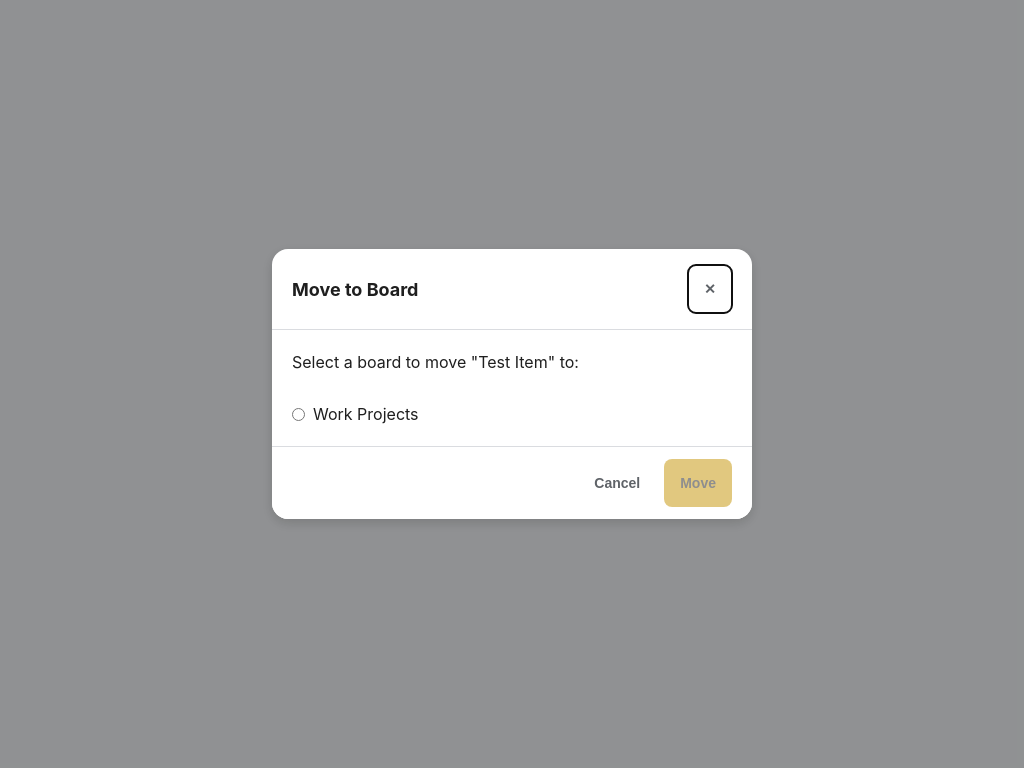
it: MoveToBoardModal › shows singular form for 1 subtask
What coordinates should you click on to do the following:
click the radio button labelled "Work Projects"
I would click on:
 (298, 414)
Its box is [292,408,305,420].
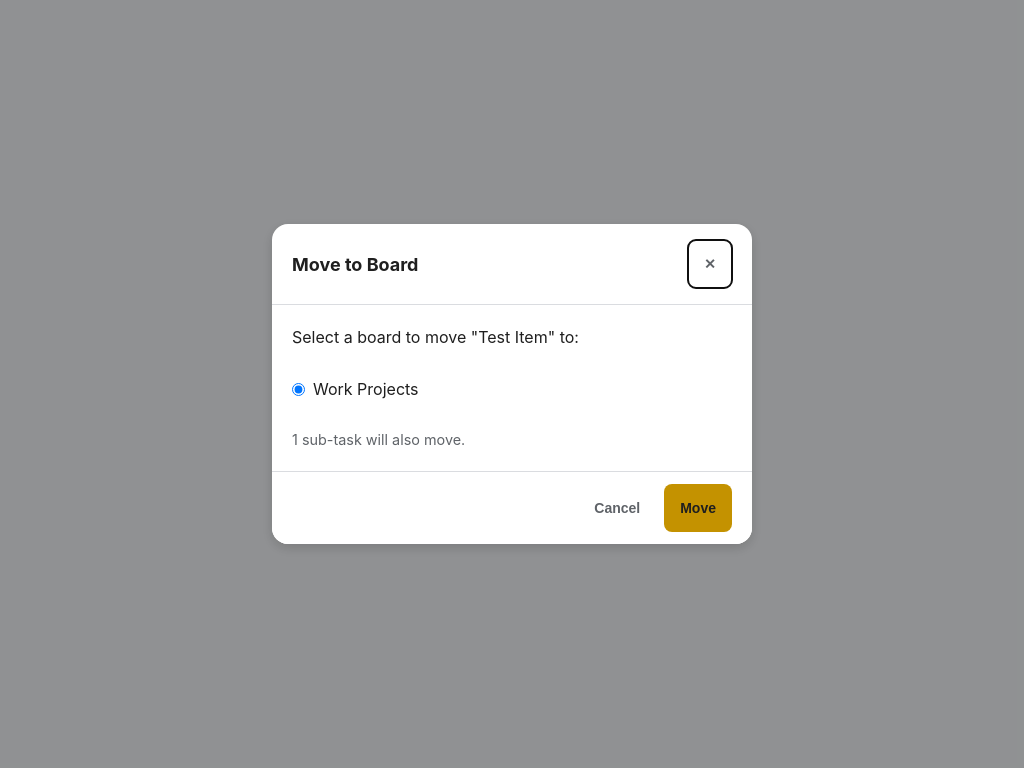
expect the text with class "move-subtask-warning" reads "1 sub-task will also move.": met, box [292,431,465,448]
